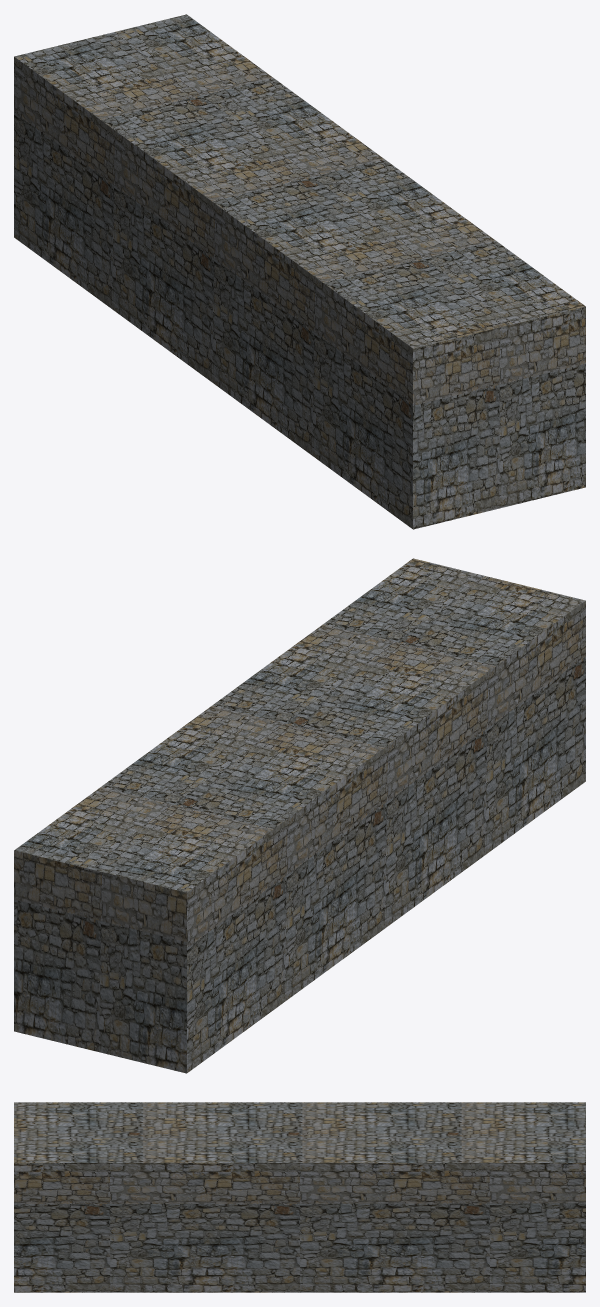
Rendered from 2x8foundation.glb.
The picture shows the model from 3 angles, top to bottom: view 1: azimuth 30°, elevation 25°; view 2: azimuth 150°, elevation 25°; view 3: azimuth 270°, elevation 25°; orthographic projection. The views are drawn at different scales.
Visible parts, largest first — view 1: Cube; view 2: Cube; view 3: Cube.
Boxes of the visible parts, x1,y1,x2,y2 form: Cube: (14, 14, 585, 529); Cube: (14, 558, 585, 1073); Cube: (14, 1102, 585, 1292).
Size of the model in its own units: 2 by 2 by 8.
1 material, 1 textured.
